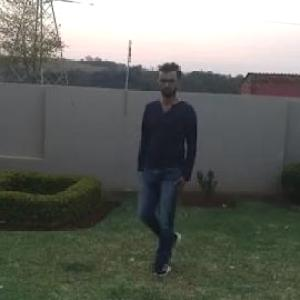follow: (138, 62, 206, 274)
